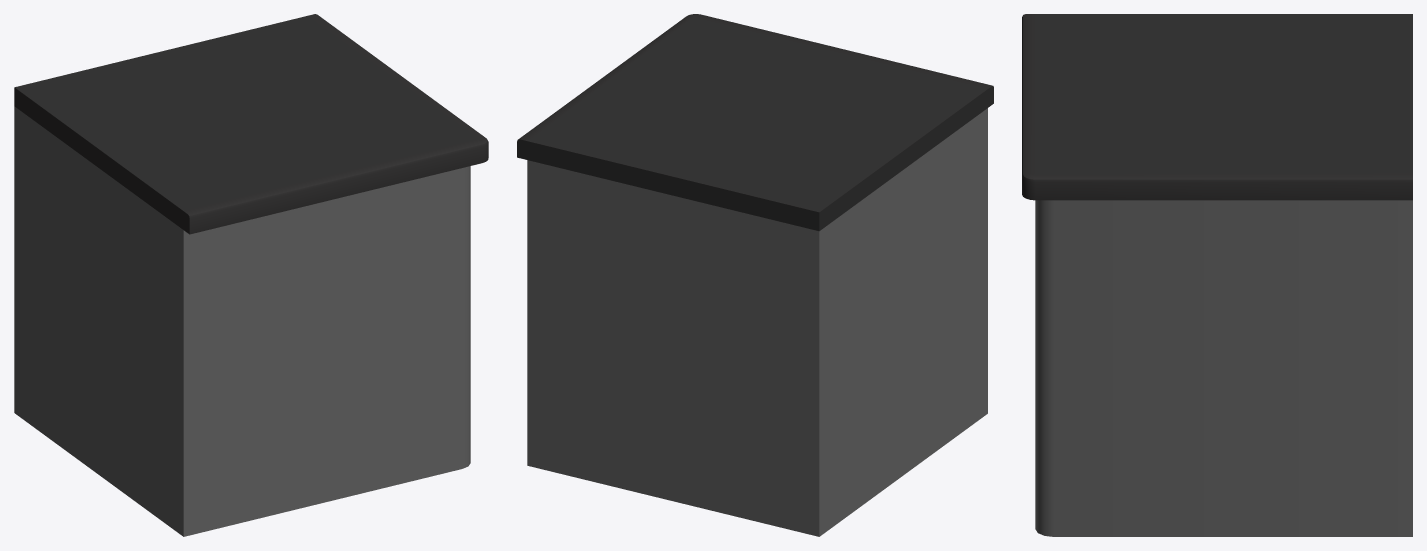
The model's file is counter.fbx.
3 views of the same model, side by side, from view 1: azimuth 30°, elevation 25°; view 2: azimuth 150°, elevation 25°; view 3: azimuth 270°, elevation 25° (orthographic). The views are drawn at different scales.
Parts seen in each view (by area): view 1: Cube; view 2: Cube; view 3: Cube.
Boxes of the visible parts, <box> form: Cube: <box>14,14,488,536</box>; Cube: <box>517,14,993,536</box>; Cube: <box>1022,14,1412,536</box>.
Size of the model in its own units: 207 by 212 by 207.
